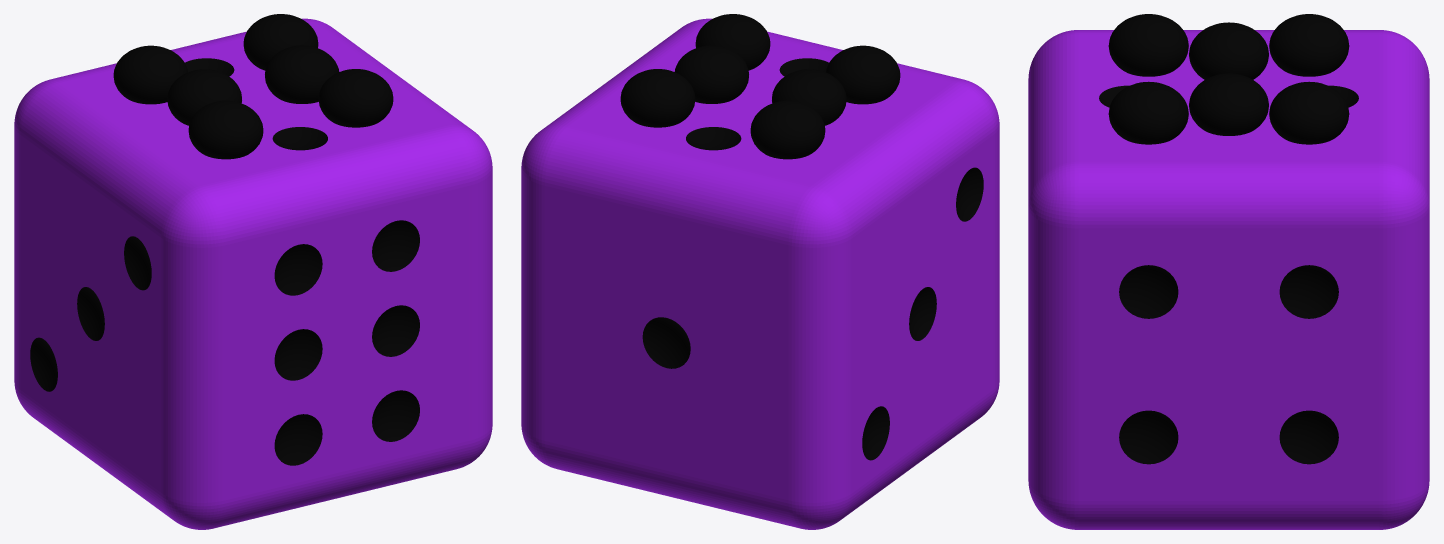
Rendered from zar.fbx.
3 renders of one model, left to right at view 1: azimuth 30°, elevation 25°; view 2: azimuth 150°, elevation 25°; view 3: azimuth 270°, elevation 25°, orthographic. The views are drawn at different scales.
Parts seen in each view (by area): view 1: Cube, Sphere.003, Sphere.002, Sphere.004, Sphere.005, Sphere.001, Sphere; view 2: Cube, Sphere.001, Sphere.004, Sphere.002, Sphere.005, Sphere.003, Sphere; view 3: Cube, Sphere.005, Sphere.003, Sphere.004, Sphere.001, Sphere.002, Sphere.
Part boxes in pixels (<box>): Cube: <box>14,18,492,529</box>; Sphere.003: <box>318,69,393,127</box>; Sphere.002: <box>188,100,263,159</box>; Sphere.004: <box>113,45,187,104</box>; Sphere.005: <box>265,45,339,103</box>; Sphere.001: <box>243,14,318,70</box>; Sphere: <box>167,69,241,125</box>; Cube: <box>521,18,999,529</box>; Sphere.001: <box>620,69,695,127</box>; Sphere.004: <box>750,100,825,159</box>; Sphere.002: <box>826,45,900,104</box>; Sphere.005: <box>674,45,748,103</box>; Sphere.003: <box>695,14,770,70</box>; Sphere: <box>772,69,846,125</box>; Cube: <box>1028,30,1429,529</box>; Sphere.005: <box>1189,73,1268,135</box>; Sphere.003: <box>1108,81,1188,144</box>; Sphere.004: <box>1269,14,1349,76</box>; Sphere.001: <box>1269,81,1349,144</box>; Sphere.002: <box>1108,14,1188,76</box>; Sphere: <box>1189,22,1268,79</box>.
Size of the model in its own units: 200 by 225 by 200.
